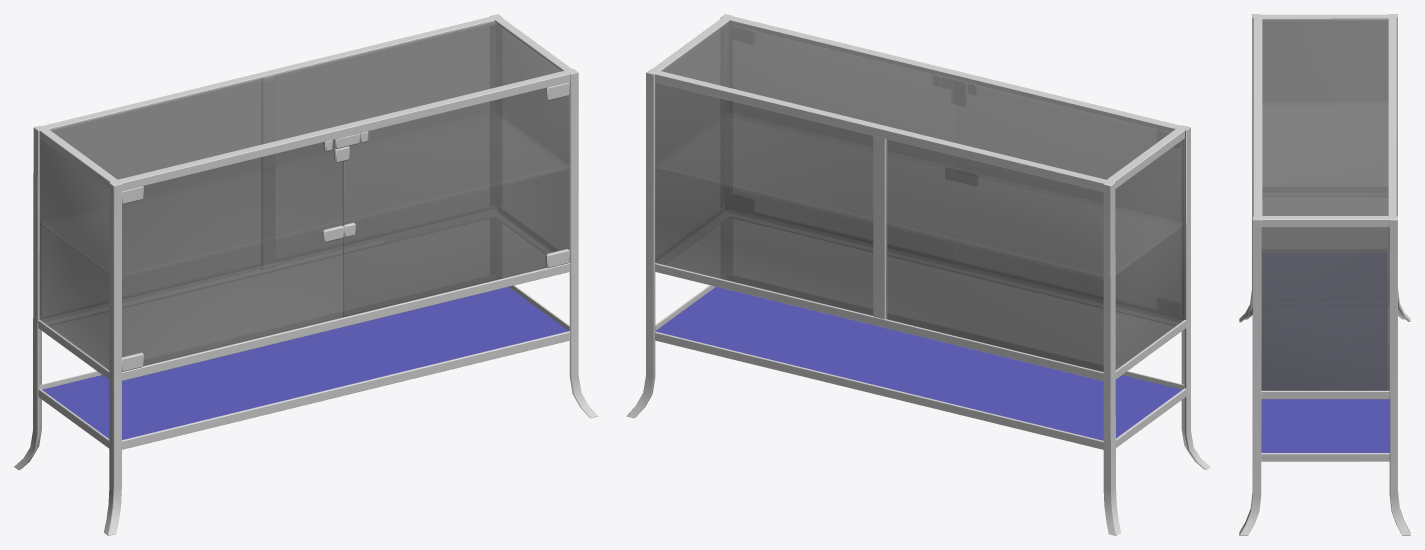
Rendered from KlingsboGlassdoorCabinet.FBX.
The picture shows the model from 3 angles, left to right: view 1: azimuth 30°, elevation 25°; view 2: azimuth 150°, elevation 25°; view 3: azimuth 270°, elevation 25°; orthographic projection. The views are drawn at different scales.
Parts seen in each view (by area): view 1: KlingsboGlassdoorCabinet; view 2: KlingsboGlassdoorCabinet; view 3: KlingsboGlassdoorCabinet.
Boxes of the visible parts, x1,y1,x2,y2 form: KlingsboGlassdoorCabinet: (14,14,597,535); KlingsboGlassdoorCabinet: (626,14,1210,535); KlingsboGlassdoorCabinet: (1239,14,1410,535).
Bounding box in the file's own units: 120 × 40 × 80.
